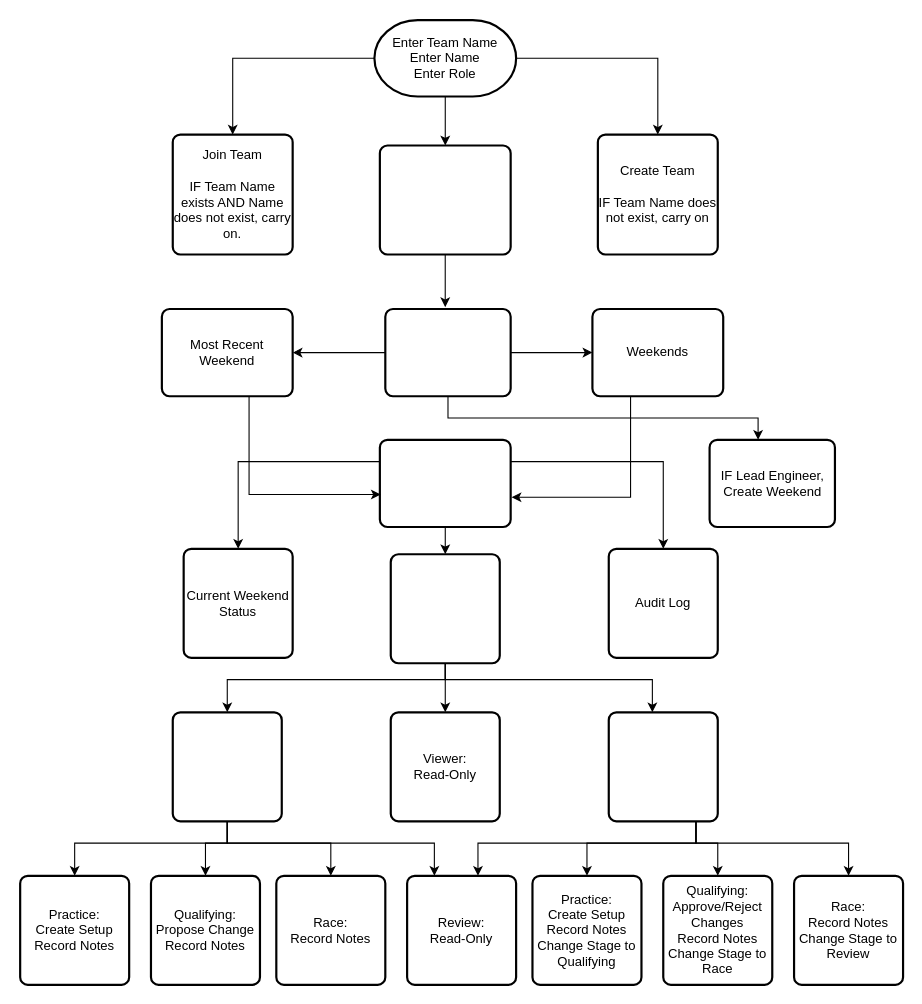
Image size: 922x1004. Some labels were removed from this diagram. The shapes that lost their labels are listed below. From the top down, each one's centre as x and y in pixels, then its label:
(x=444, y=199): Log In IF Team Name exists AND Name exists with Role, carry on.
(x=447, y=352): Dashboard
(x=444, y=483): Weekend Dashboard
(x=444, y=608): Allowed Actions
(x=226, y=766): Engineer
(x=662, y=766): Lead Engineer
